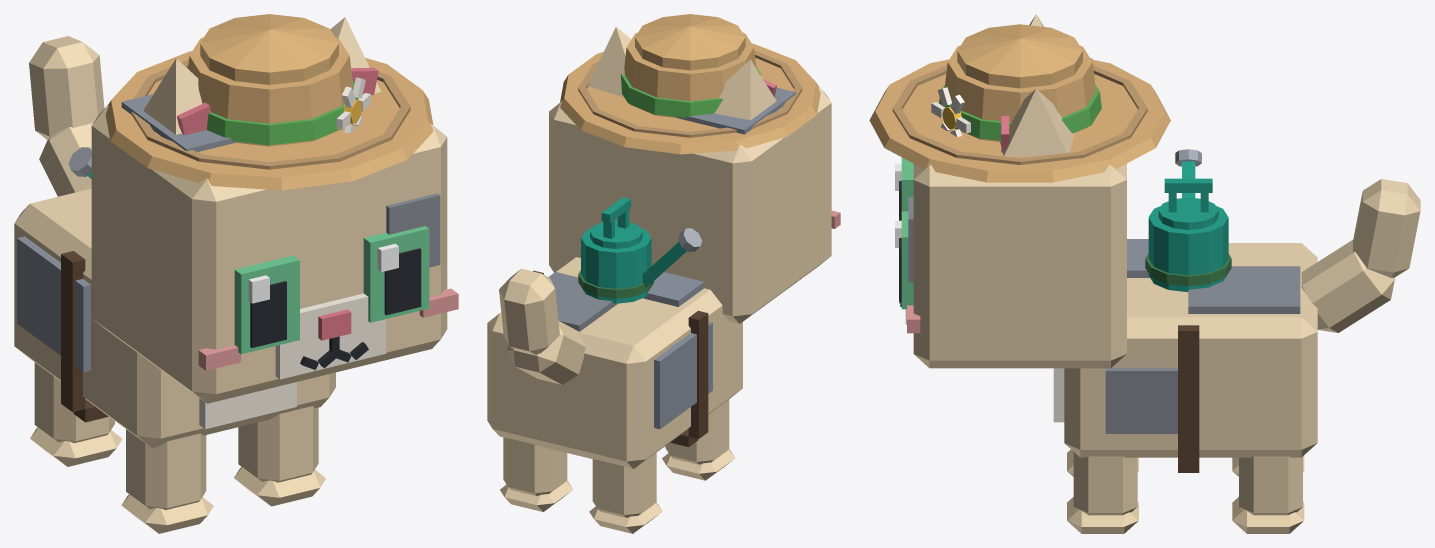
The model's file is CatCafe_Cat_Gardener.glb.
3 views of the same model, side by side, from view 1: azimuth 30°, elevation 25°; view 2: azimuth 150°, elevation 25°; view 3: azimuth 270°, elevation 25° (orthographic). The views are drawn at different scales.
Visible parts, largest first — view 1: CatCafe_Cat_Gardener_Head, CatCafe_Cat_Gardener_Prop, CatCafe_Cat_Gardener_Body, CatCafe_Cat_Gardener_Tail, CatCafe_Cat_Gardener_LegF2, CatCafe_Cat_Gardener_LegF1, CatCafe_Cat_Gardener_Eye2, CatCafe_Cat_Gardener_Eye1, CatCafe_Cat_Gardener_LegB2, CatCafe_Cat_Gardener_Prop2, CatCafe_Cat_Gardener_EarR, CatCafe_Cat_Gardener_EarL; view 2: CatCafe_Cat_Gardener_Head, CatCafe_Cat_Gardener_Body, CatCafe_Cat_Gardener_Prop, CatCafe_Cat_Gardener_Prop2, CatCafe_Cat_Gardener_Tail, CatCafe_Cat_Gardener_LegB2, CatCafe_Cat_Gardener_LegB1, CatCafe_Cat_Gardener_LegF2, CatCafe_Cat_Gardener_EarR, CatCafe_Cat_Gardener_EarL; view 3: CatCafe_Cat_Gardener_Head, CatCafe_Cat_Gardener_Body, CatCafe_Cat_Gardener_Prop, CatCafe_Cat_Gardener_Prop2, CatCafe_Cat_Gardener_Tail, CatCafe_Cat_Gardener_LegF1, CatCafe_Cat_Gardener_LegB1, CatCafe_Cat_Gardener_EarL, CatCafe_Cat_Gardener_Eye1, CatCafe_Cat_Gardener_Eye2.
Part boxes in pixels (box(x1,y1,x2,y2)): CatCafe_Cat_Gardener_Head: box(91, 94, 458, 403); CatCafe_Cat_Gardener_Prop: box(105, 14, 433, 190); CatCafe_Cat_Gardener_Body: box(14, 188, 335, 447); CatCafe_Cat_Gardener_Tail: box(29, 36, 104, 196); CatCafe_Cat_Gardener_LegF2: box(121, 429, 213, 533); CatCafe_Cat_Gardener_LegF1: box(234, 406, 325, 506); CatCafe_Cat_Gardener_Eye2: box(234, 255, 299, 354); CatCafe_Cat_Gardener_Eye1: box(363, 226, 429, 322); CatCafe_Cat_Gardener_LegB2: box(30, 362, 122, 466); CatCafe_Cat_Gardener_Prop2: box(61, 147, 108, 422); CatCafe_Cat_Gardener_EarR: box(143, 58, 211, 135); CatCafe_Cat_Gardener_EarL: box(330, 17, 381, 95); CatCafe_Cat_Gardener_Head: box(549, 87, 840, 323); CatCafe_Cat_Gardener_Body: box(487, 257, 742, 468); CatCafe_Cat_Gardener_Prop: box(560, 14, 820, 154); CatCafe_Cat_Gardener_Prop2: box(533, 197, 708, 446); CatCafe_Cat_Gardener_Tail: box(499, 268, 585, 384); CatCafe_Cat_Gardener_LegB2: box(589, 452, 662, 533); CatCafe_Cat_Gardener_LegB1: box(500, 437, 573, 511); CatCafe_Cat_Gardener_LegF2: box(662, 399, 734, 480); CatCafe_Cat_Gardener_EarR: box(714, 59, 776, 120); CatCafe_Cat_Gardener_EarL: box(588, 27, 631, 97); CatCafe_Cat_Gardener_Head: box(899, 58, 1126, 368); CatCafe_Cat_Gardener_Body: box(1053, 239, 1317, 457); CatCafe_Cat_Gardener_Prop: box(869, 24, 1170, 182); CatCafe_Cat_Gardener_Prop2: box(1145, 149, 1231, 472); CatCafe_Cat_Gardener_Tail: box(1301, 179, 1420, 332); CatCafe_Cat_Gardener_LegF1: box(1067, 452, 1138, 533); CatCafe_Cat_Gardener_LegB1: box(1232, 456, 1304, 533); CatCafe_Cat_Gardener_EarL: box(1000, 89, 1074, 156); CatCafe_Cat_Gardener_Eye1: box(895, 211, 913, 309); CatCafe_Cat_Gardener_Eye2: box(895, 157, 913, 220).
Size of the model in its own units: 1.1 by 1.91 by 2.07.
Materials: 1 (1 with a texture image).
